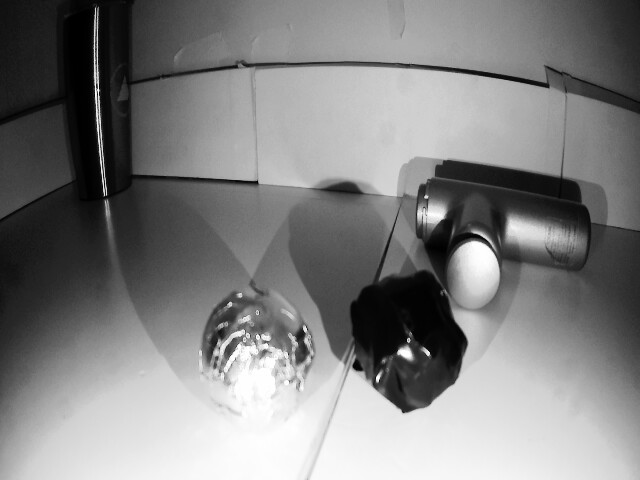black: (347, 272, 460, 409)
silver: (196, 286, 318, 424)
